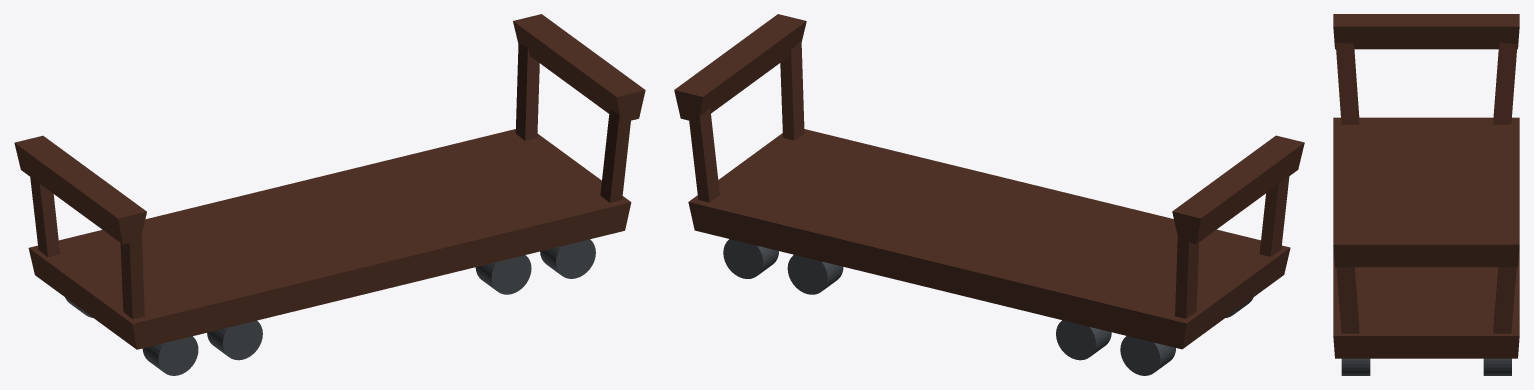
Rendered from Cart.fbx.
3 views of the same model, side by side, from view 1: azimuth 30°, elevation 25°; view 2: azimuth 150°, elevation 25°; view 3: azimuth 270°, elevation 25° (orthographic). The views are drawn at different scales.
Visible parts, largest first — view 1: Cart; view 2: Cart; view 3: Cart.
Boxes of the visible parts, left/top/right/bottom form: Cart: left=14, top=14, right=645, bottom=375; Cart: left=674, top=14, right=1304, bottom=375; Cart: left=1333, top=14, right=1519, bottom=375.
Bounding box in the file's own units: 296 × 94.55 × 101.
